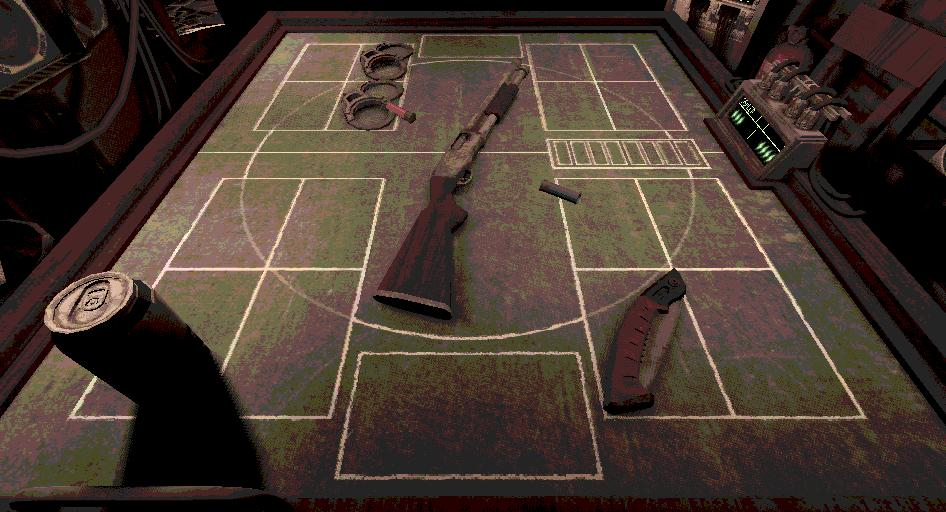ally: (0, 147, 945, 511)
can: (44, 272, 241, 425)
doubledamage: (597, 268, 685, 414)
emptyspace: (677, 268, 864, 418), (211, 268, 364, 410), (167, 177, 306, 271), (635, 180, 775, 269), (554, 176, 673, 273), (268, 179, 386, 268), (595, 79, 689, 132), (251, 81, 347, 131), (536, 80, 617, 132), (284, 45, 364, 82), (527, 43, 600, 82), (585, 42, 657, 81)
enemyspace: (197, 28, 750, 152)
gun: (372, 59, 529, 320)
handcuff: (341, 80, 403, 129), (359, 34, 414, 81)
